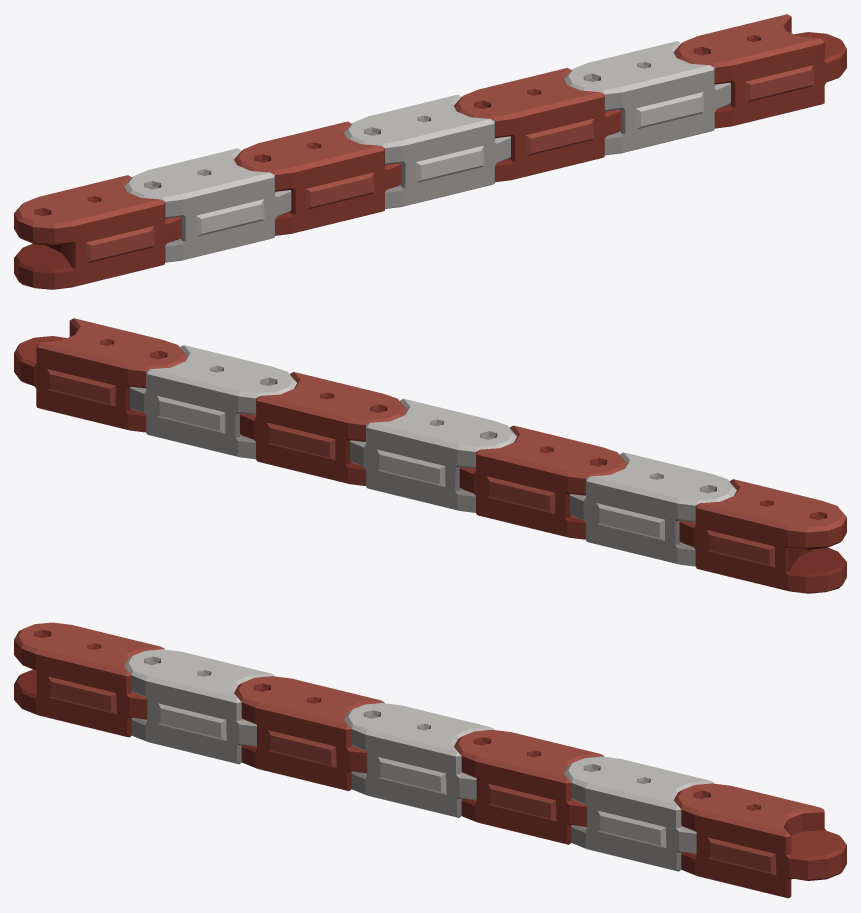
Rendered from SM_Prop_Barrier_06.fbx.
The picture shows the model from 3 angles, top to bottom: view 1: azimuth 30°, elevation 25°; view 2: azimuth 150°, elevation 25°; view 3: azimuth 330°, elevation 25°; orthographic projection.
Parts seen in each view (by area): view 1: SM_Prop_Barrier_06; view 2: SM_Prop_Barrier_06; view 3: SM_Prop_Barrier_06.
Boxes of the visible parts, x1,y1,x2,y2 form: SM_Prop_Barrier_06: [14, 14, 846, 289]; SM_Prop_Barrier_06: [14, 318, 846, 593]; SM_Prop_Barrier_06: [14, 622, 846, 898].
Bounding box in the file's own units: 1250 × 98.6 × 107.
